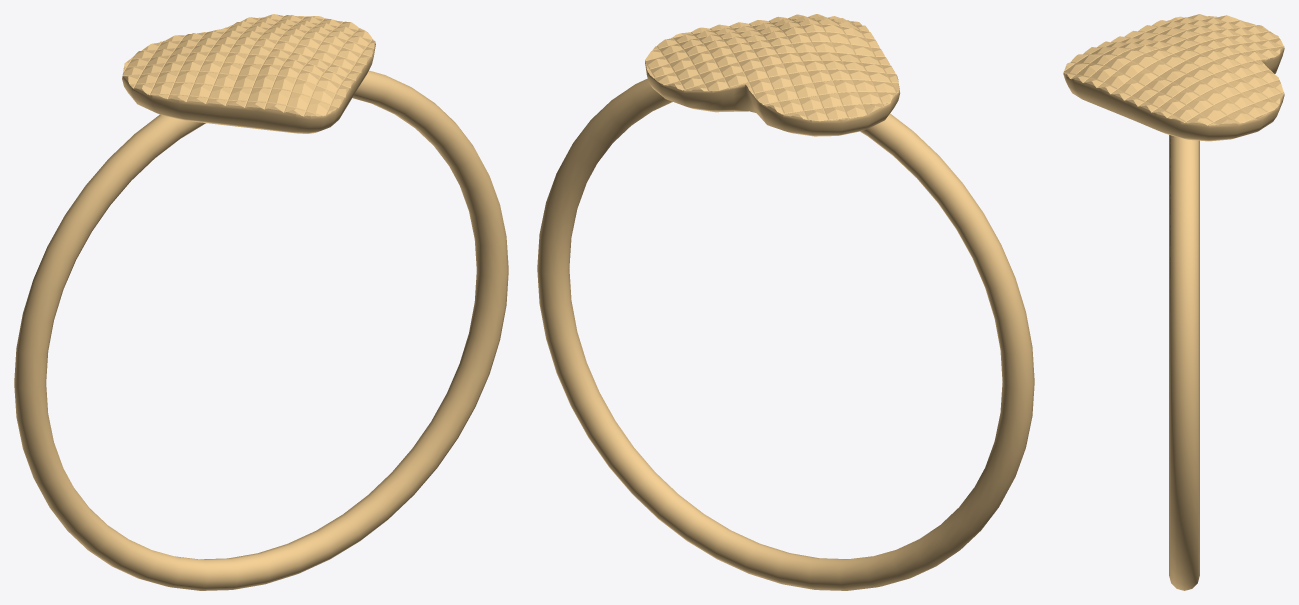
File: heart_ring.glb
The picture shows the model from 3 angles, left to right: view 1: azimuth 30°, elevation 25°; view 2: azimuth 150°, elevation 25°; view 3: azimuth 270°, elevation 25°; orthographic projection. The views are drawn at different scales.
Parts seen in each view (by area): view 1: HeartRing; view 2: HeartRing; view 3: HeartRing.
Part boxes in pixels (left/top/right/bottom): HeartRing: left=14, top=14, right=508, bottom=590; HeartRing: left=537, top=14, right=1034, bottom=590; HeartRing: left=1063, top=14, right=1284, bottom=590.
Bounding box in the file's own units: 2.25 × 2.35 × 0.9129.
